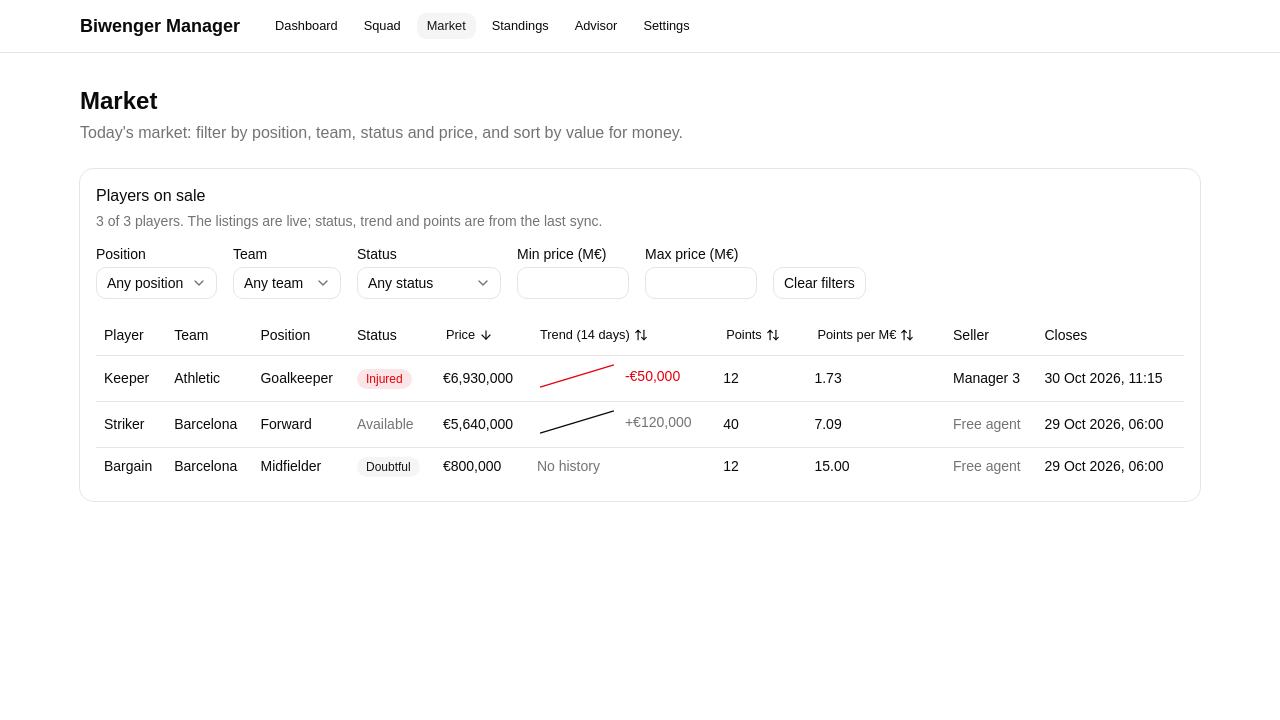
Test: MarketList › filters by position, team, status and price, and clears the filters
The width and height of the screenshot is (1280, 720).
Expected: the table is shown, top-left (96, 315), bottom-right (1184, 484)
Select "Barcelona" in the dropdown labelled "Team": (287, 283) top-left (233, 267), bottom-right (341, 299)
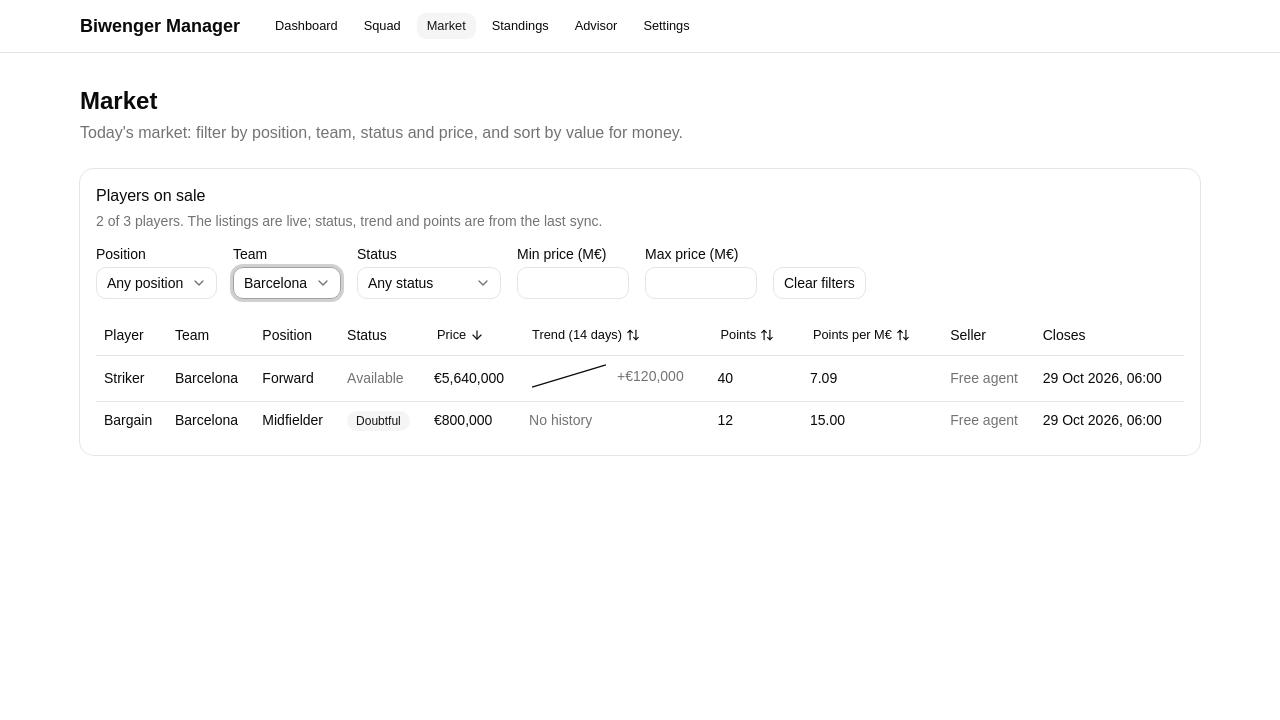
Select "Midfielder" in the dropdown labelled "Position": (156, 283) top-left (96, 267), bottom-right (217, 299)
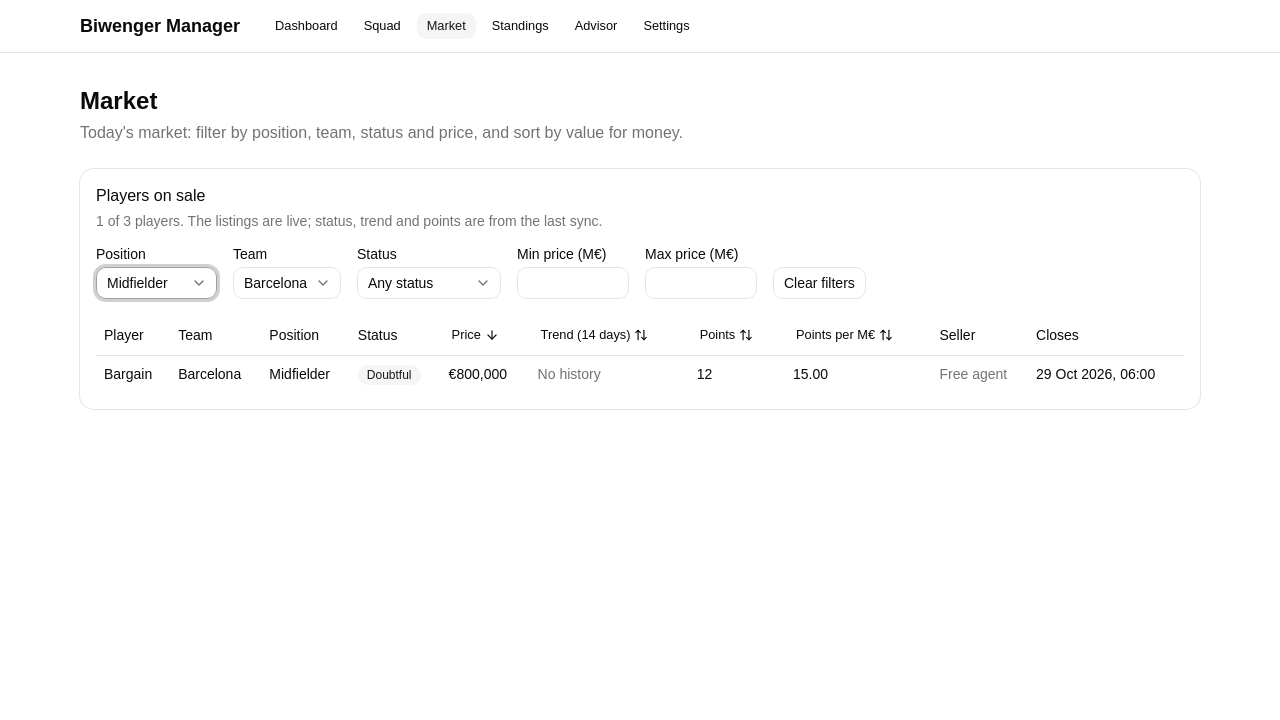
Select "Injured" in the dropdown labelled "Status": (429, 283) top-left (357, 267), bottom-right (501, 299)
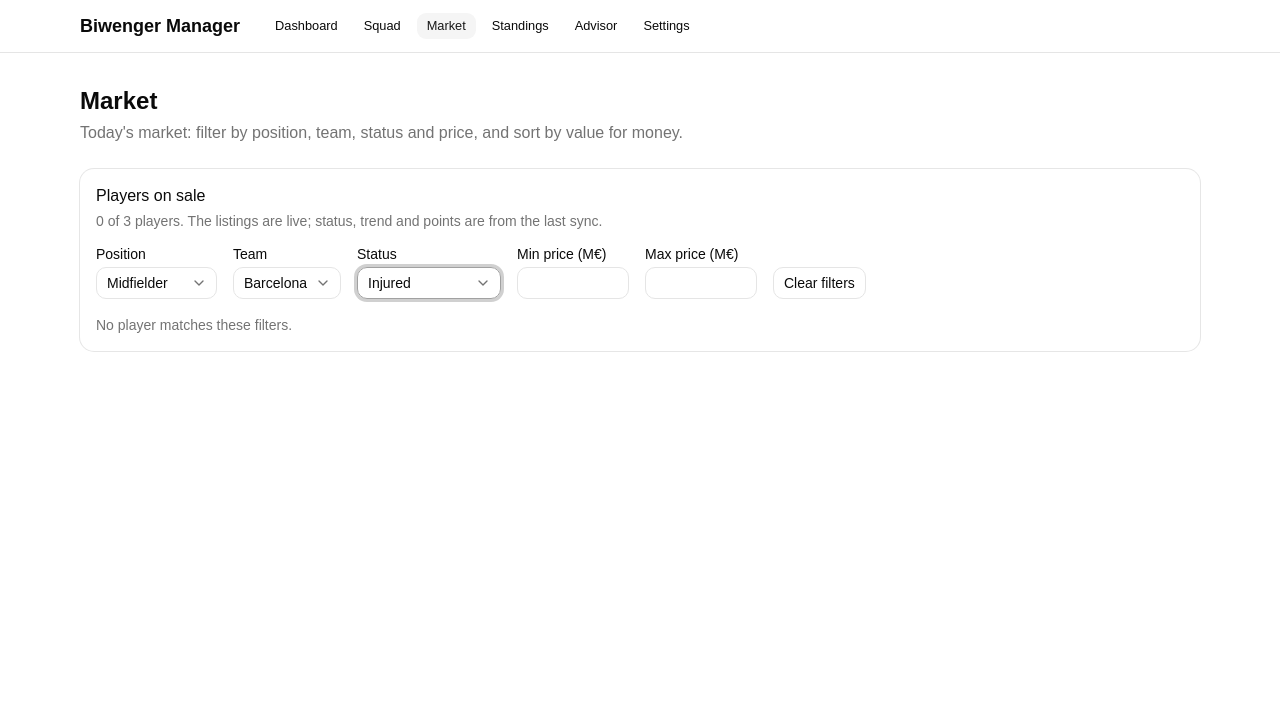
Expected: the text "No player matches these filters." is shown, top-left (96, 317), bottom-right (292, 333)
Click the button "Clear filters": (819, 283) top-left (773, 267), bottom-right (866, 299)
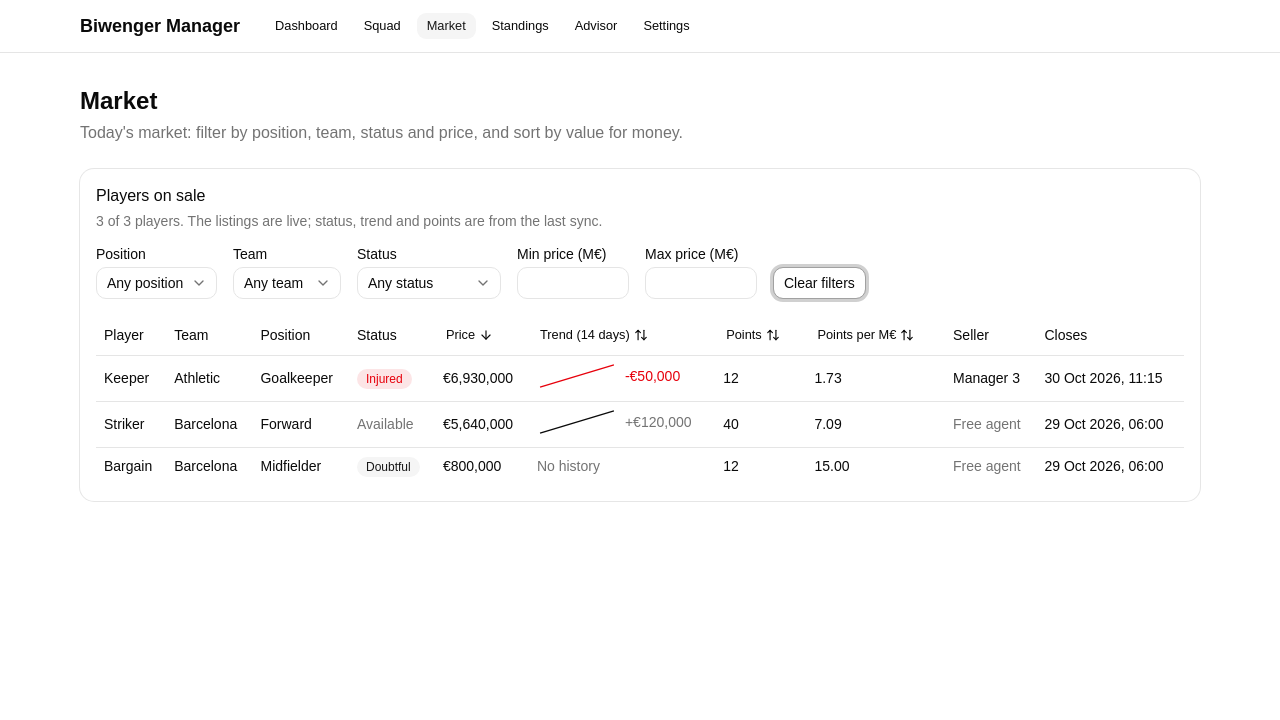
In the number field labelled "Min price (M€)": (573, 283) top-left (517, 267), bottom-right (629, 299), type "1"
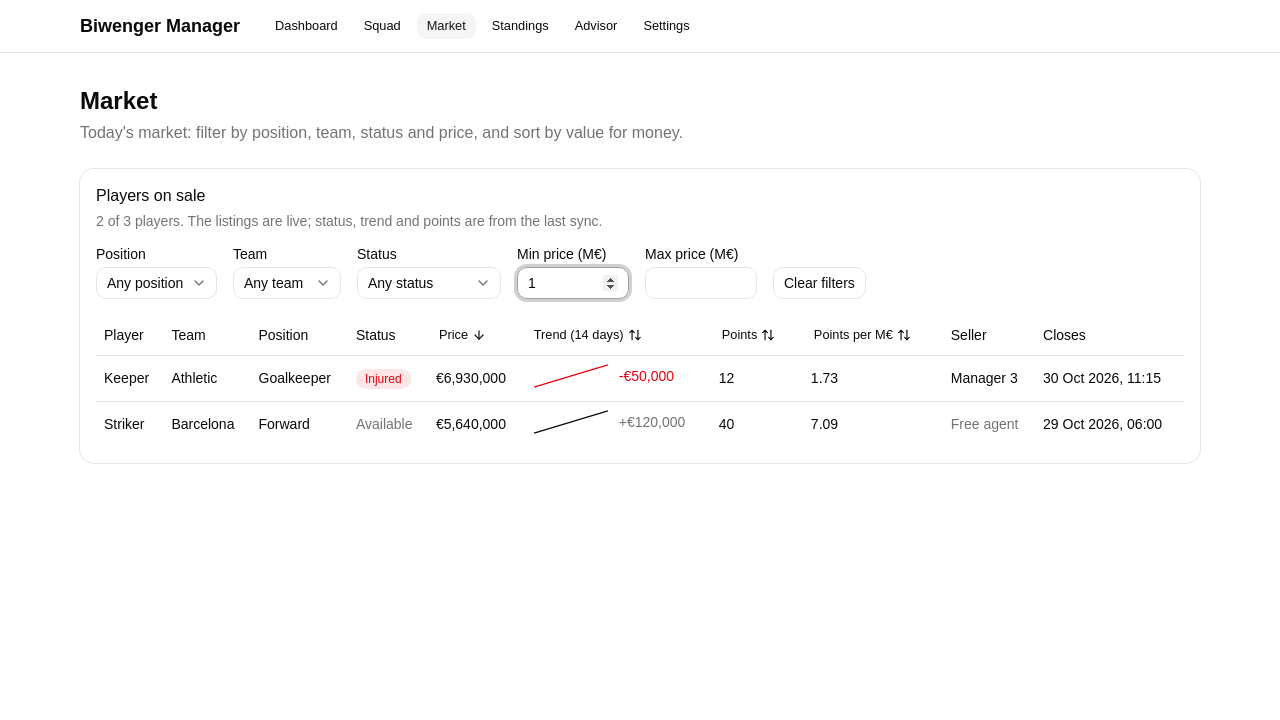
In the number field labelled "Max price (M€)": (701, 283) top-left (645, 267), bottom-right (757, 299), type "6"
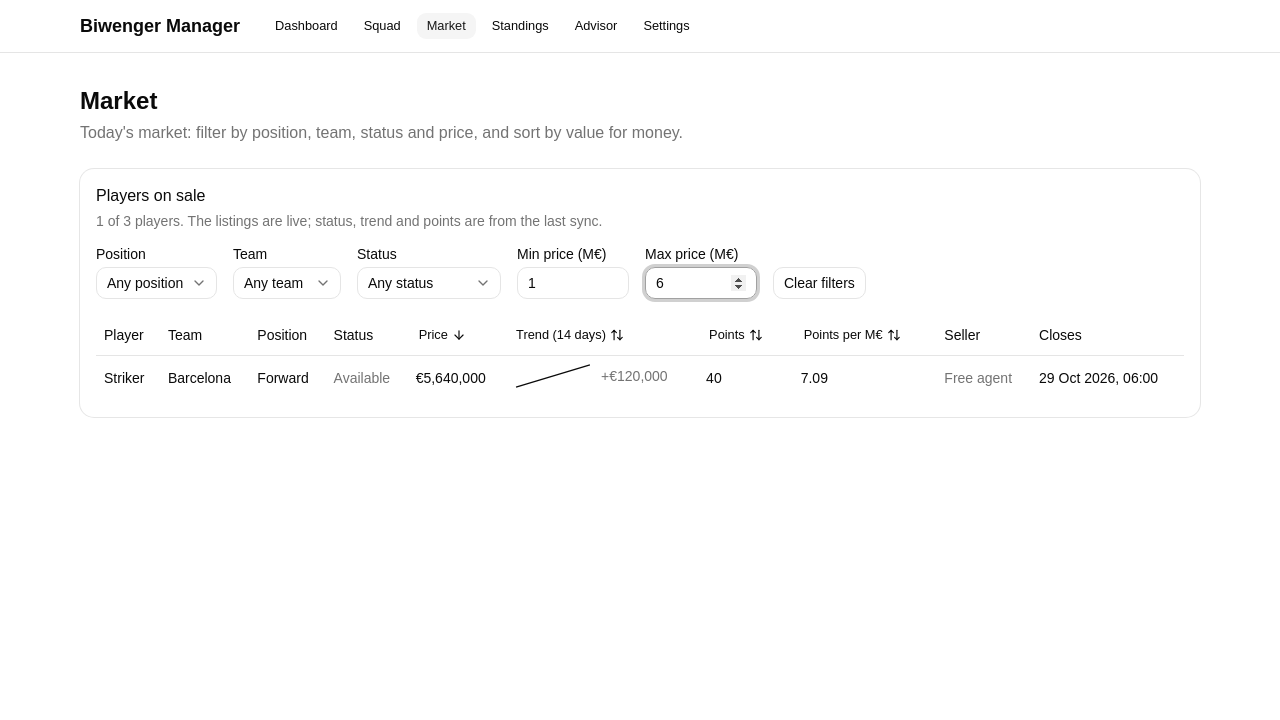
Expected: the text "1 of 3 players" is shown, top-left (96, 213), bottom-right (602, 229)
